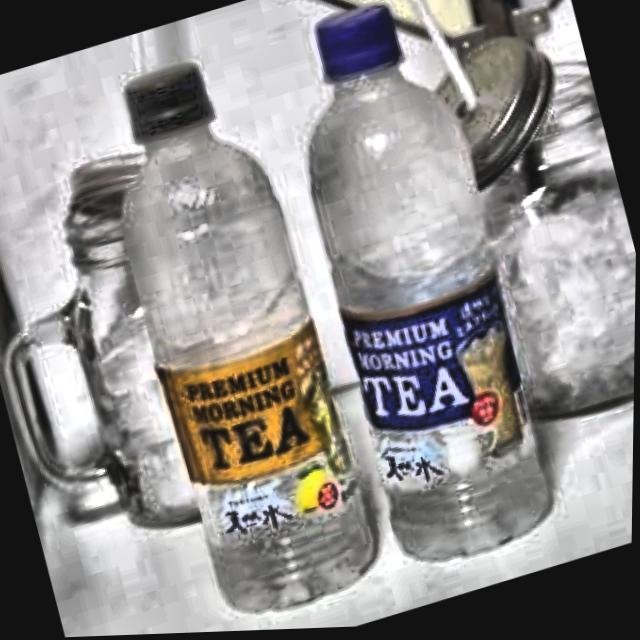Bottles: (229, 0, 622, 621), (57, 24, 410, 638)
